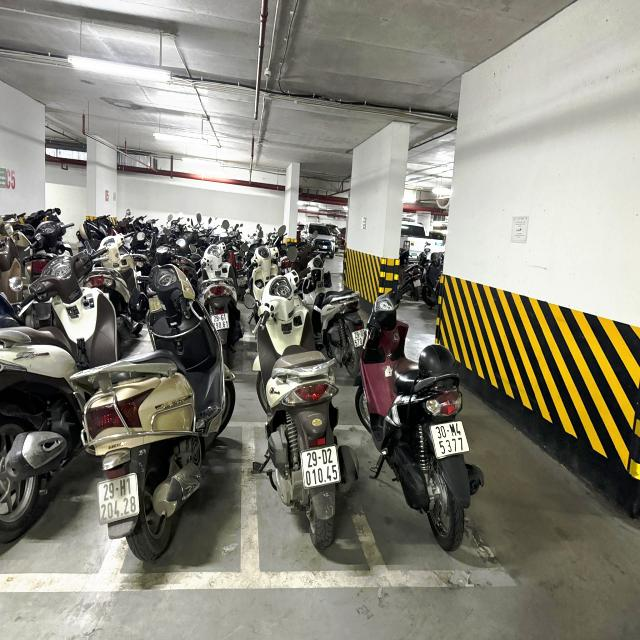license_plate: (95, 470, 143, 530), (298, 442, 344, 495), (427, 417, 475, 464)
